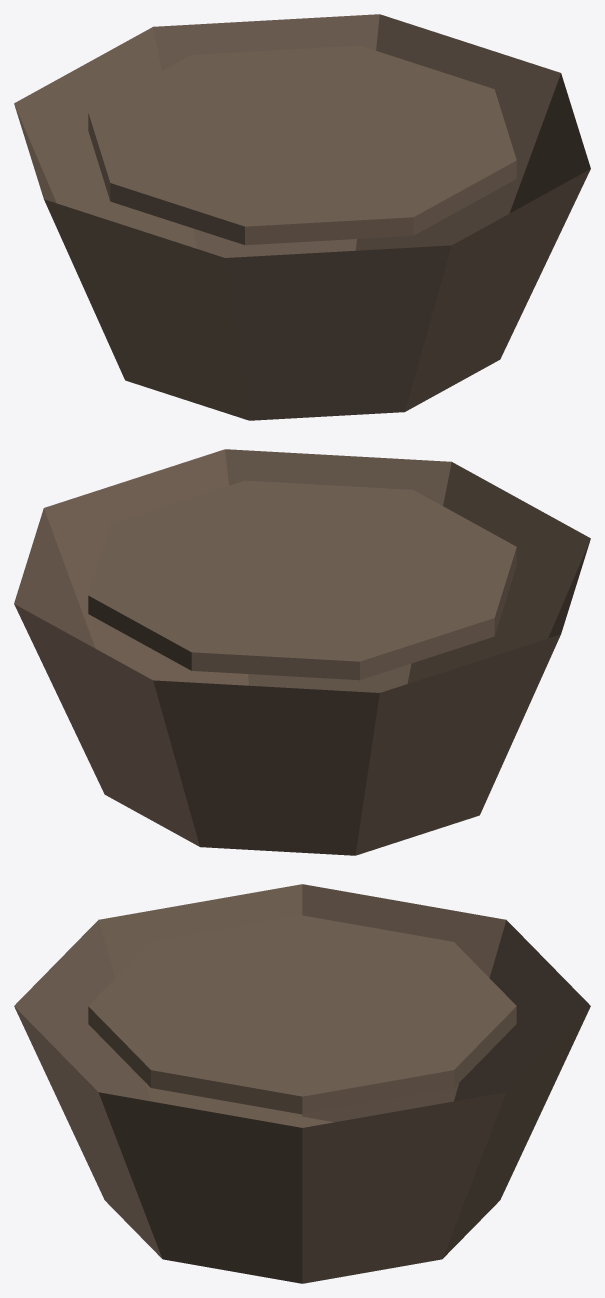
Rendered from hangingbasket.gltf.
The picture shows the model from 3 angles, top to bottom: view 1: azimuth 30°, elevation 25°; view 2: azimuth 150°, elevation 25°; view 3: azimuth 270°, elevation 25°; orthographic projection. The views are drawn at different scales.
Visible parts, largest first — view 1: HangingBasket; view 2: HangingBasket; view 3: HangingBasket.
Part boxes in pixels (<box>): HangingBasket: <box>14,14,590,420</box>; HangingBasket: <box>14,449,590,855</box>; HangingBasket: <box>14,884,590,1283</box>.
Size of the model in its own units: 0.35 by 0.13 by 0.35.
1 material, 1 textured.
